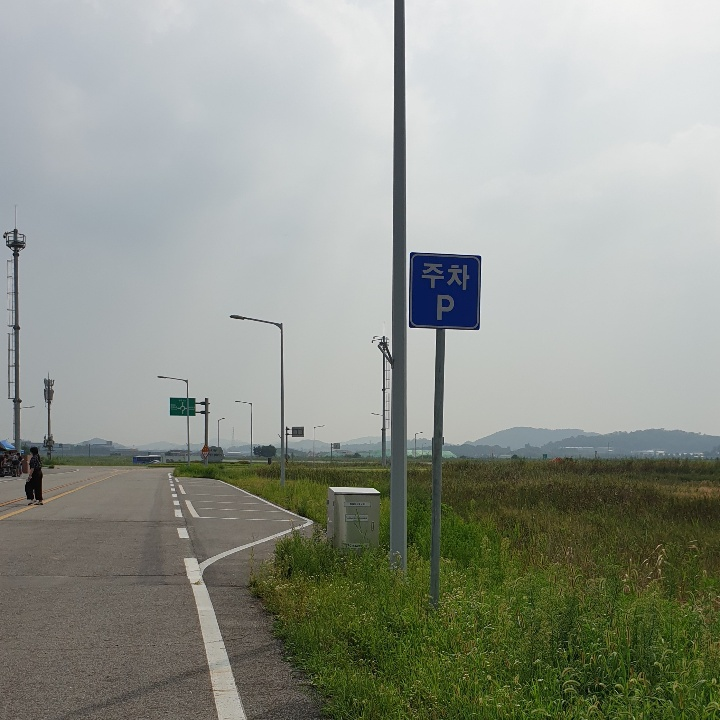parking: (430, 289, 459, 328)
